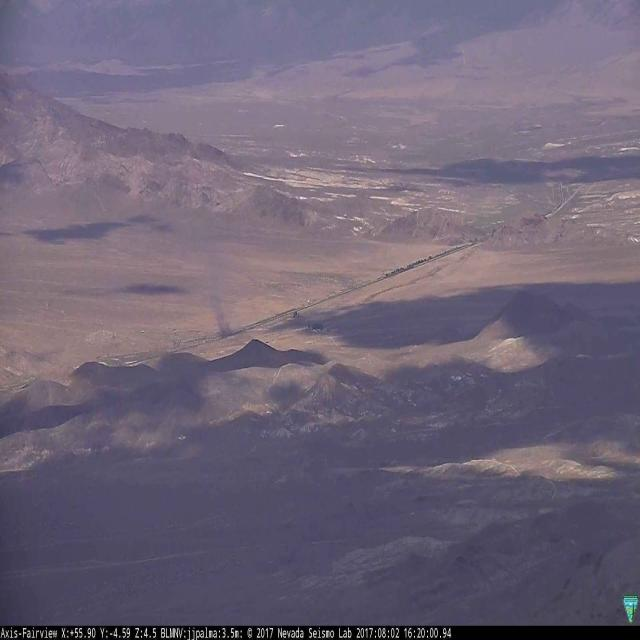smoke: (194, 232, 237, 343)
